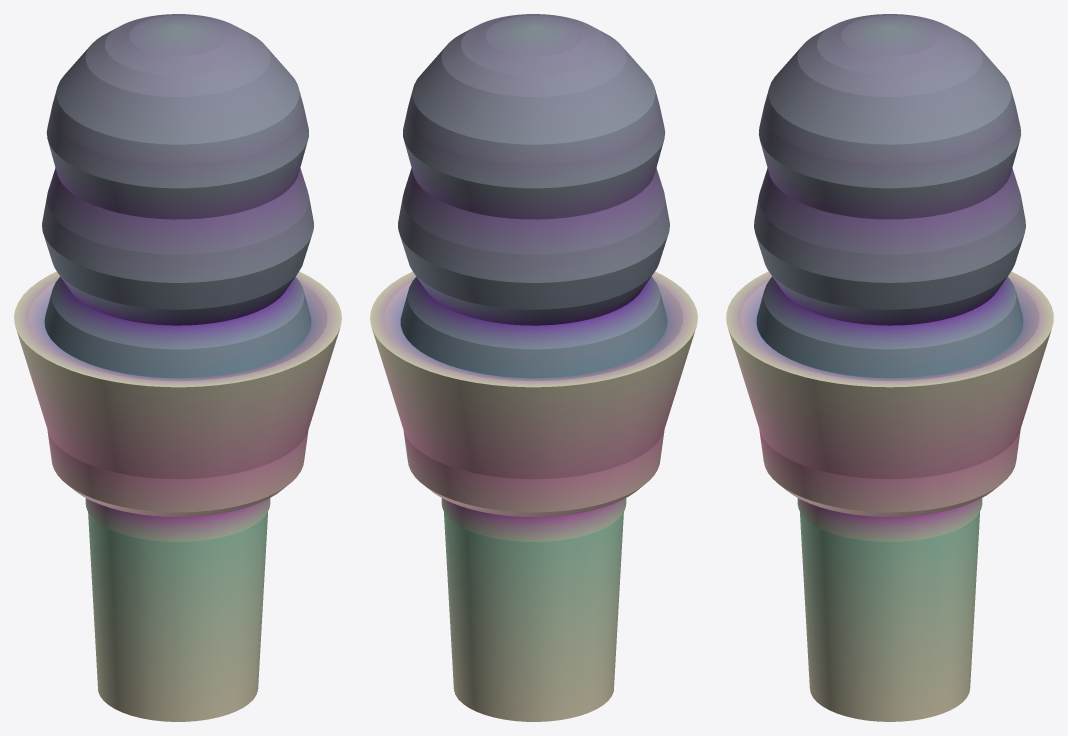
3 renders of one model, left to right at view 1: azimuth 30°, elevation 25°; view 2: azimuth 150°, elevation 25°; view 3: azimuth 270°, elevation 25°, orthographic.
Parts seen in each view (by area): view 1: green_column, holder, foot; view 2: green_column, holder, foot; view 3: green_column, holder, foot.
Part boxes in pixels (box(x1,y1,x2,y2)): green_column: box(42, 14, 313, 378); holder: box(14, 271, 341, 541); foot: box(88, 512, 267, 721); green_column: box(398, 14, 669, 378); holder: box(370, 271, 697, 541); foot: box(444, 512, 623, 721); green_column: box(754, 14, 1025, 378); holder: box(726, 271, 1053, 541); foot: box(800, 512, 979, 721).
Size of the model in its own units: 0.0675 by 0.15 by 0.0674.
